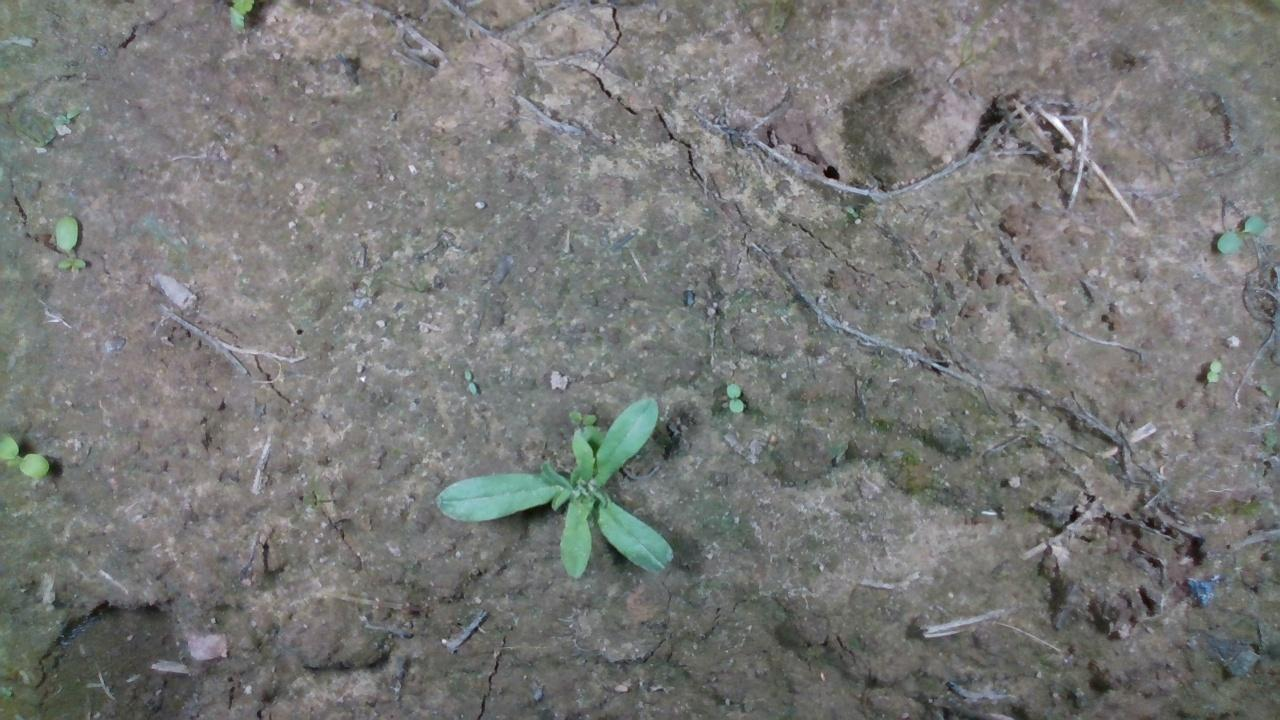weed: (1215, 211, 1266, 255), (714, 378, 764, 421)
